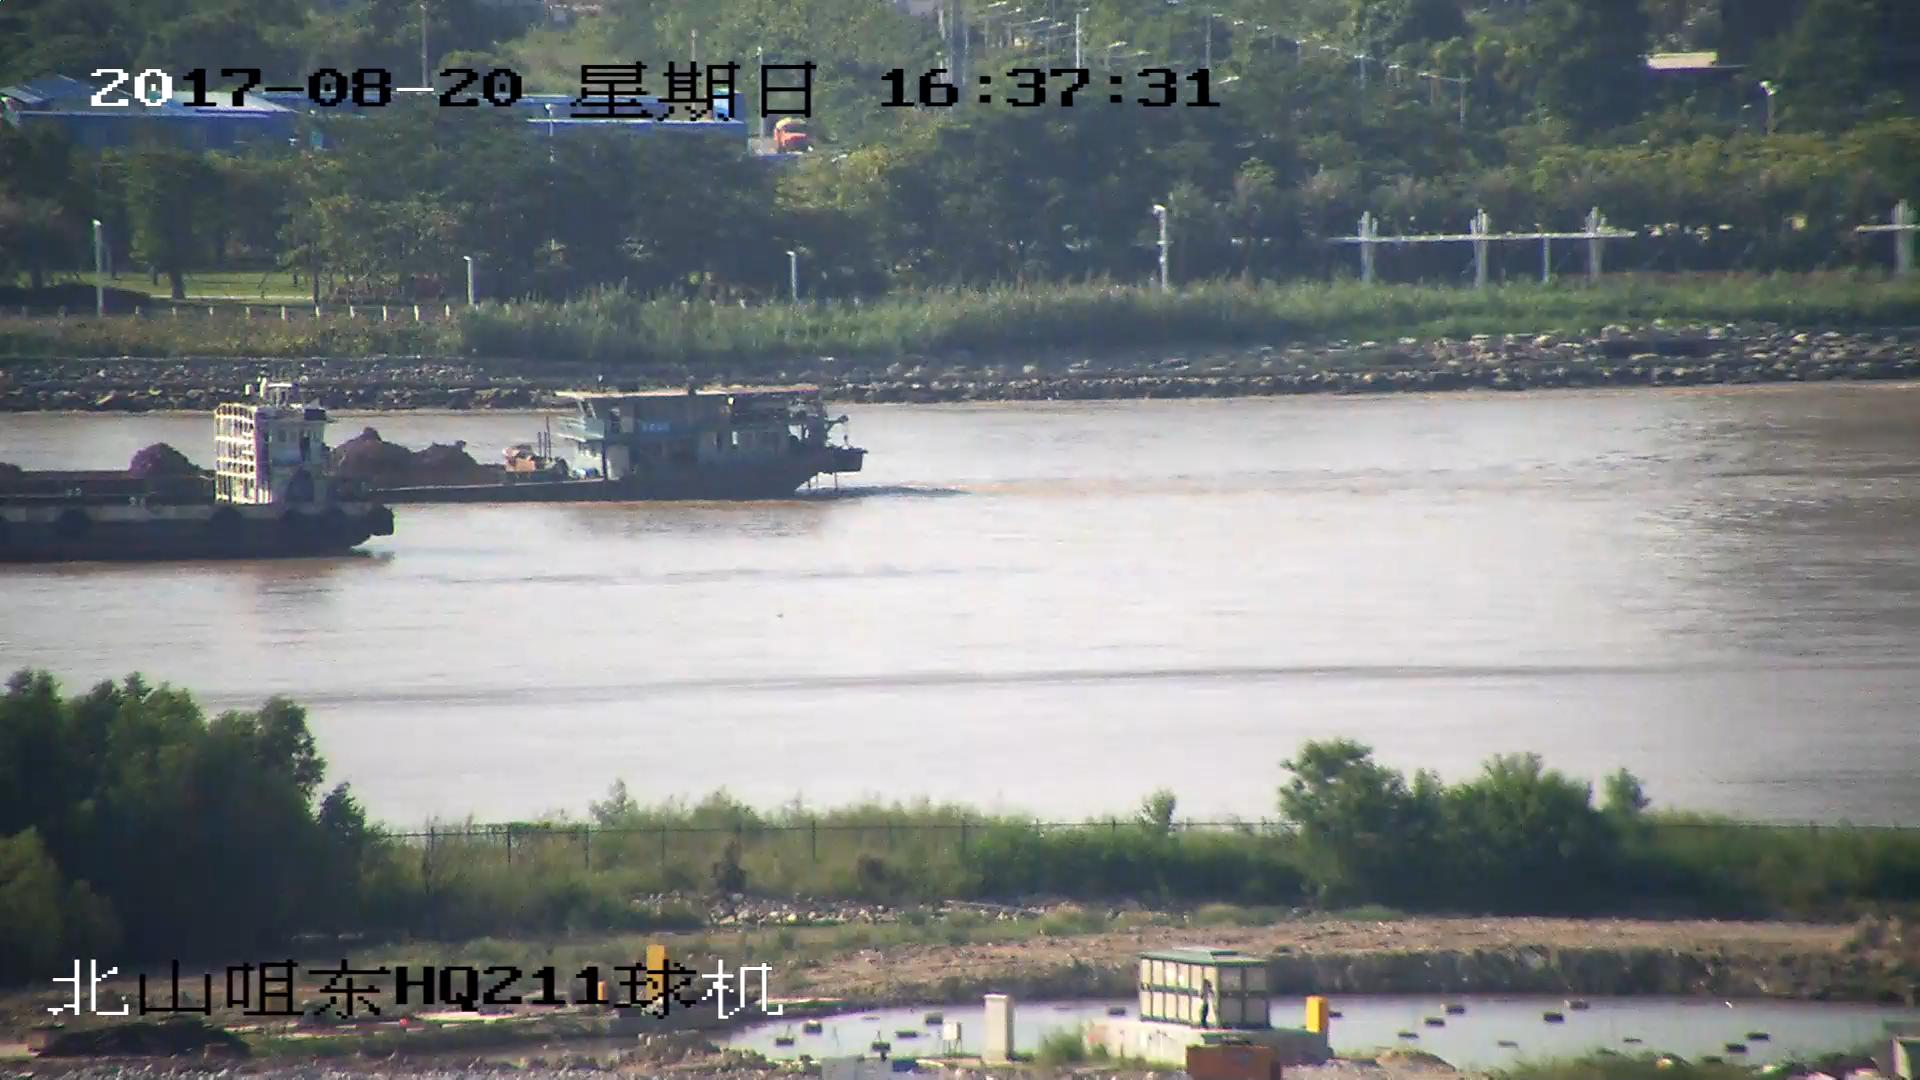general cargo ship: (1, 393, 401, 565)
ore carrier: (1, 390, 868, 510)
